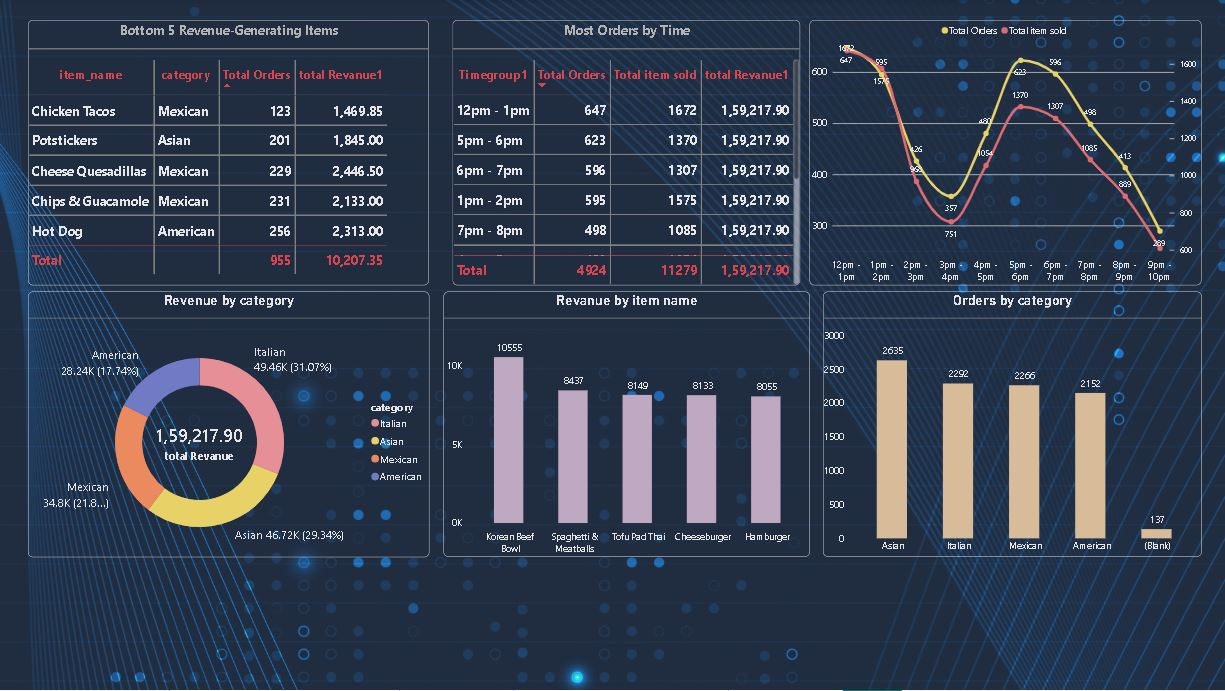

This screenshot's page, from the dashboard's own definition file:
{"tool":"powerbi","page":{"name":"Page 2","canvas":[1920,1080],"ordinal":1},"visuals":[{"type":"tableEx","title":"Bottom 5 Revenue-Generating Items","fields":{"Values":["public menu_items.item_name","public menu_items.category","public menu_items.Total Orders","Total_item_price.total Revanue1"]},"box":[46.3,31.7,626.8,414.6],"z":2},{"type":"tableEx","title":"Most Orders by Time","fields":{"Values":["public order_details.Timegroup1","public menu_items.Total Orders","public menu_items.Total item sold","Total_item_price.total Revanue1"]},"box":[711.3,32.3,543.5,414.5],"z":4},{"type":"lineChart","fields":{"Y2":["public menu_items.Total item sold"],"Y":["public menu_items.Total Orders"],"Category":["public order_details.Timegroup1"]},"box":[1269.4,32.3,612.9,414.5],"z":5},{"type":"donutChart","title":"Revenue by category","fields":{"Category":["public menu_items.category"],"Y":["Total_item_price.total Revanue1"]},"box":[46,457,627,415],"z":6},{"type":"columnChart","title":"Revanue by item name","fields":{"Y":["Total_item_price.total Revanue1"],"Category":["public menu_items.item_name"]},"box":[696.8,456.5,572.6,414.5],"z":7},{"type":"columnChart","title":"Orders by category","fields":{"Y":["public menu_items.Total Orders"],"Category":["public menu_items.category"]},"box":[1290.3,456.5,591.9,414.5],"z":8}]}

Visuals, with their boxes in screenshot pixels (x1, y1, x2, y2), scaled from the page's 1920x1080 canvas onto the 1225x691 screenshot:
"Bottom 5 Revenue-Generating Items" tableEx: 30, 20, 429, 286
"Most Orders by Time" tableEx: 454, 21, 801, 286
lineChart - public menu_items.Total item sold x public menu_items.Total Orders: 810, 21, 1201, 286
"Revenue by category" donutChart: 29, 292, 429, 558
"Revanue by item name" columnChart: 445, 292, 810, 557
"Orders by category" columnChart: 823, 292, 1201, 557
